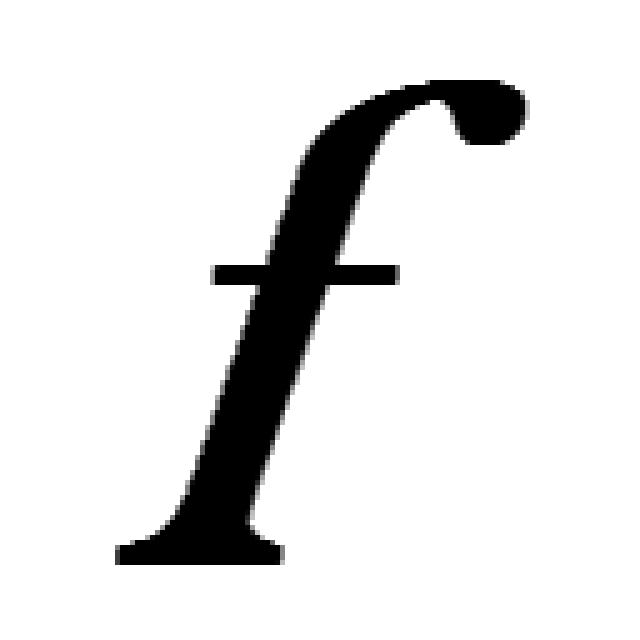F: (115, 80, 530, 570)
